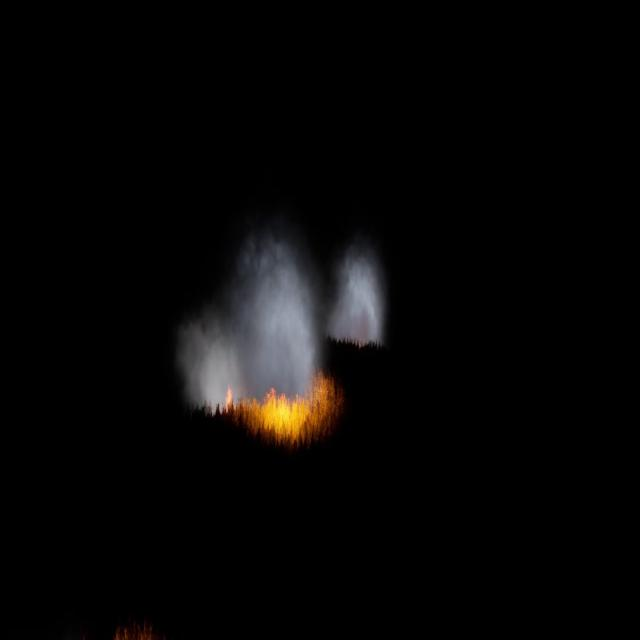fire: (224, 375, 334, 443)
smoke: (163, 232, 390, 413)
